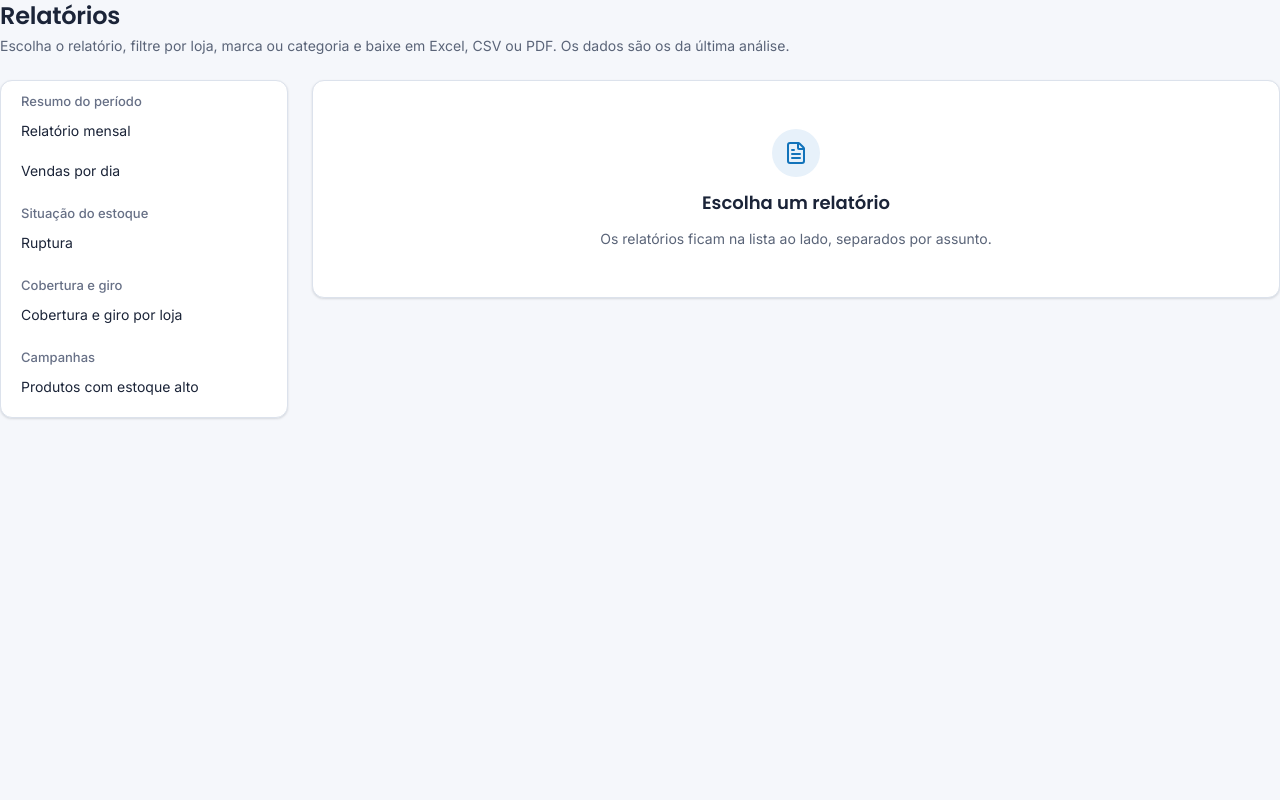
it: Relatórios › o relatório mensal mostra a variação com seta e sinal e o desempenho das transferências
This screenshot has width=1280, height=800.
Click the button "Relatório mensal". click: (76, 130)
box: [13, 113, 275, 149]
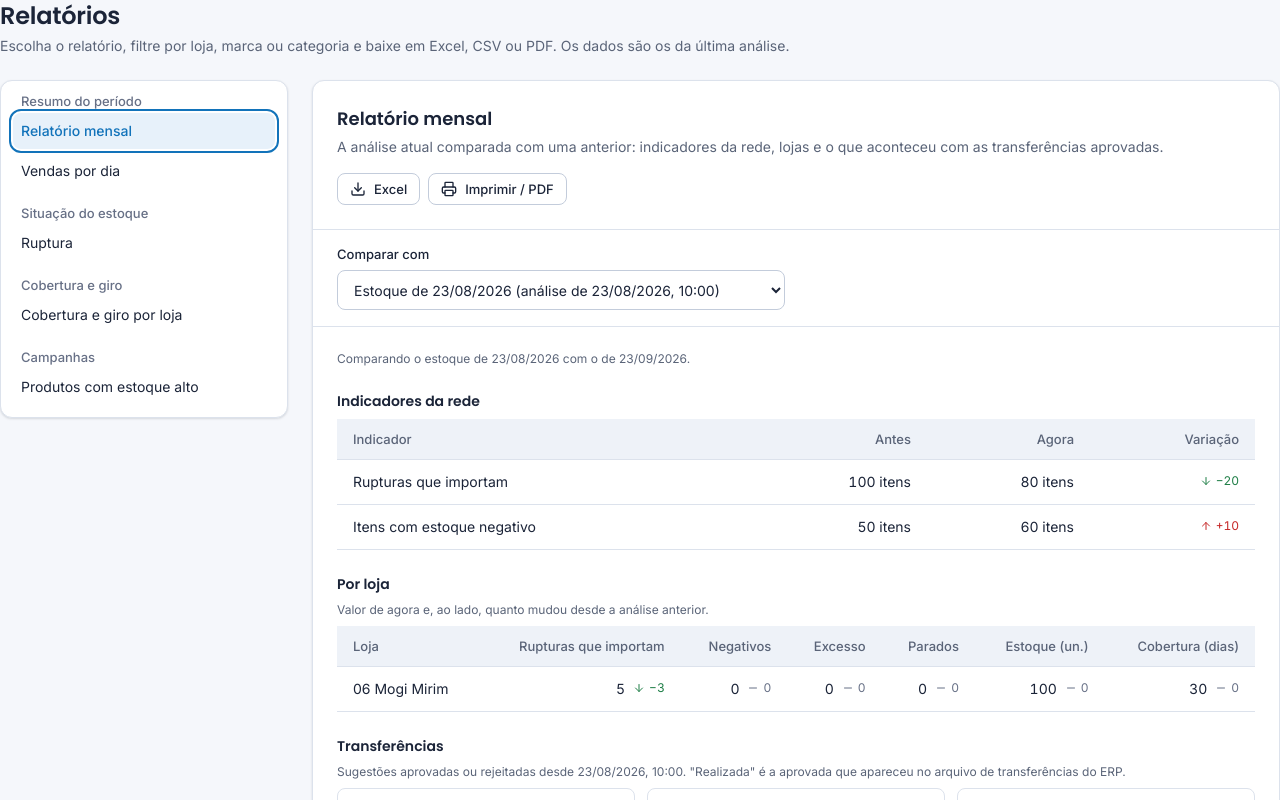
expect the cell "Rupturas que importam" is shown: met, box [337, 460, 747, 504]
expect the element titled "Piorou" reads "+10": met, box [1216, 518, 1239, 533]
expect the elements titled "Melhorou" read "−20", "−3", in this order: met, box [1200, 473, 1239, 489]; [633, 680, 665, 696]
